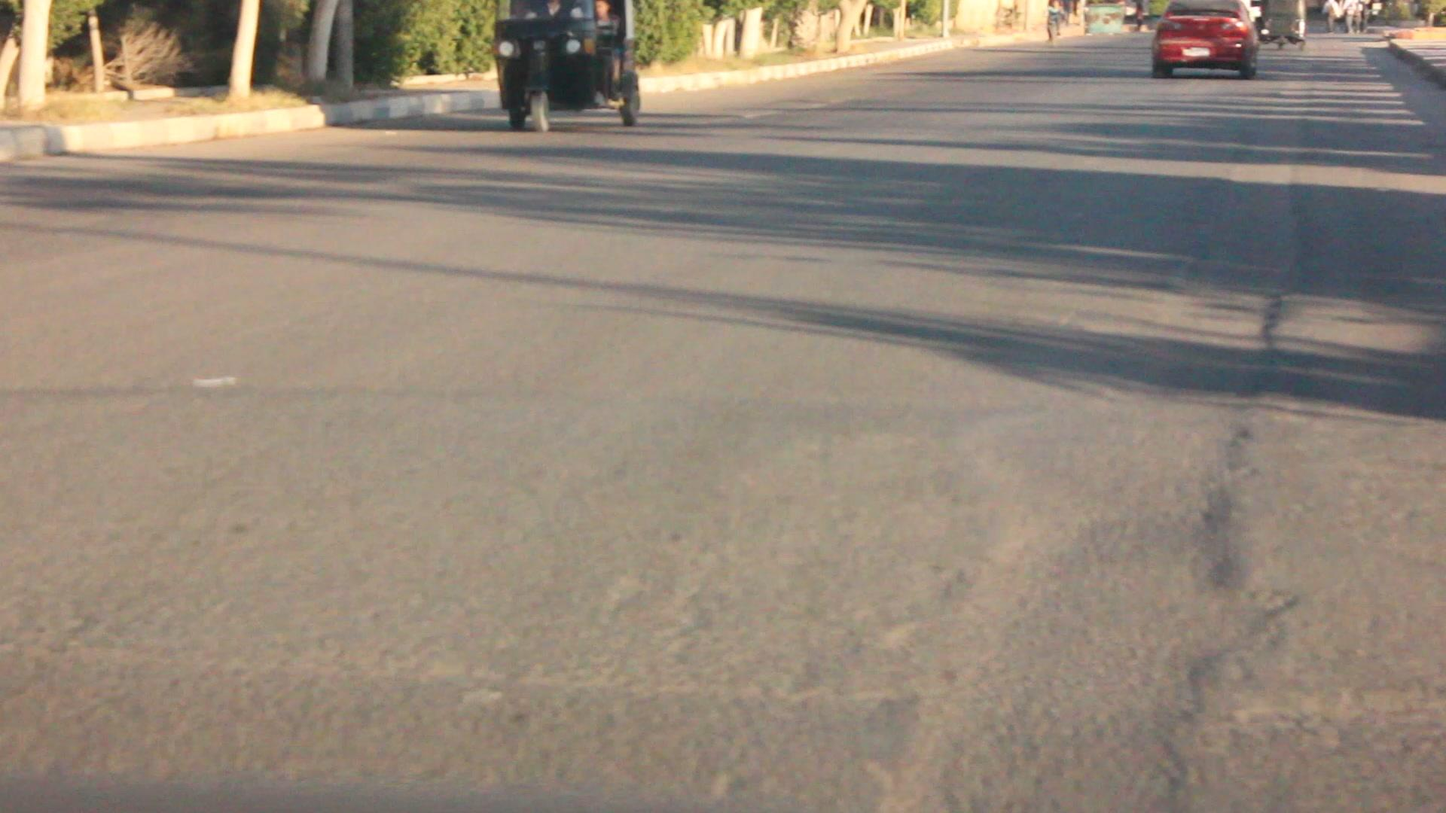Pothole: (1013, 395, 1169, 813)
